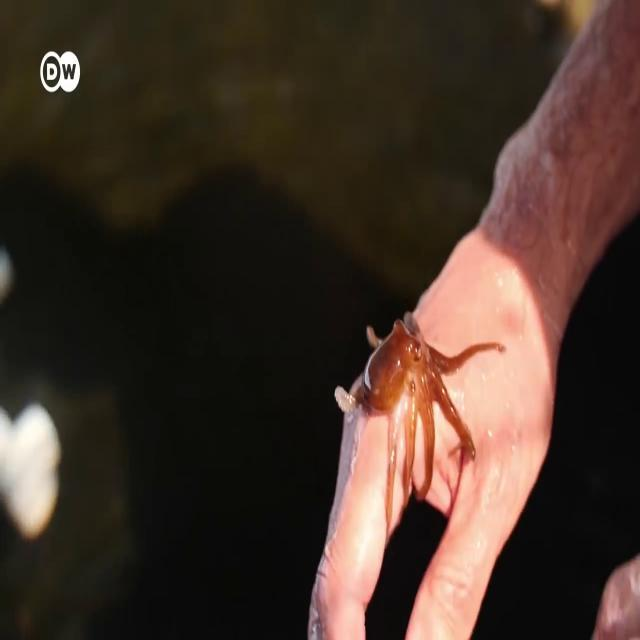octopus: (333, 308, 503, 535)
